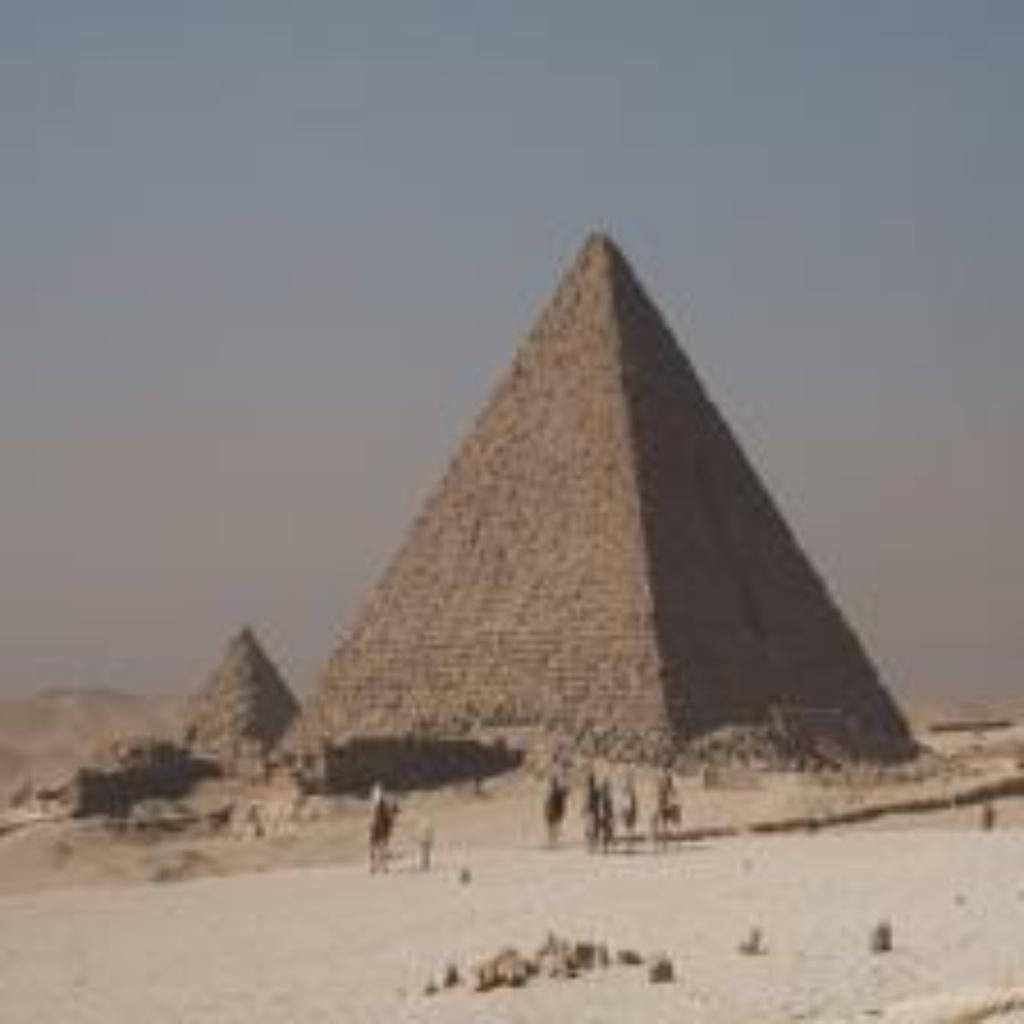Great Pyramids of Giza: (284, 220, 924, 782)
